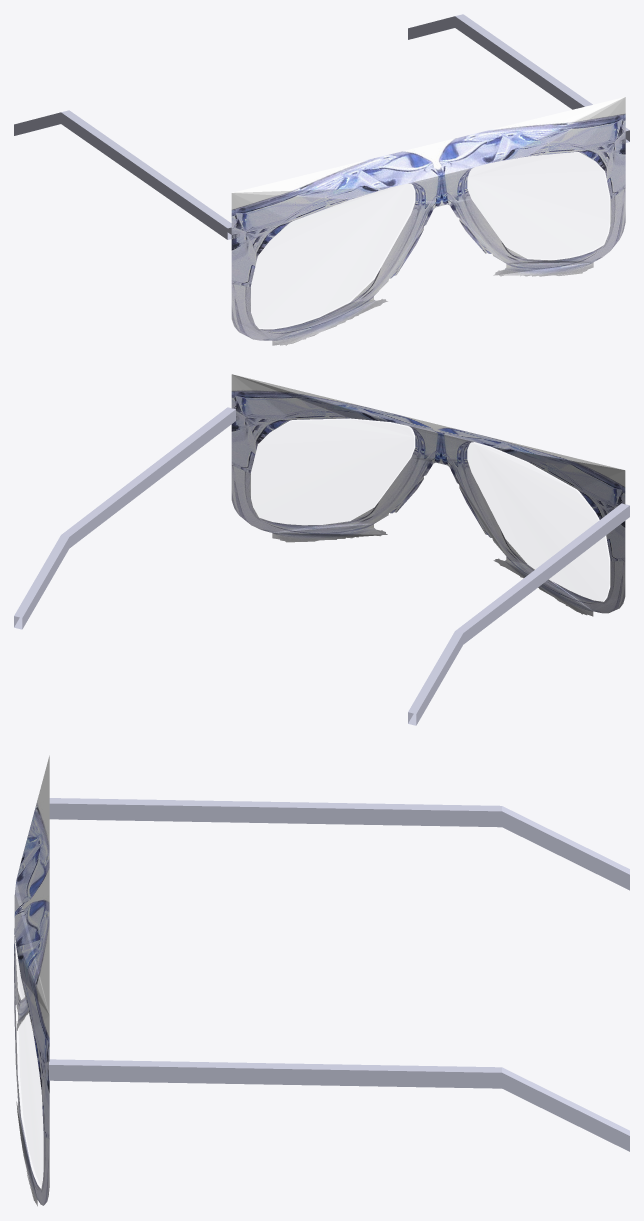
The model's file is smilen-elite-53_aruba.glb.
3 renders of one model, top to bottom at view 1: azimuth 30°, elevation 25°; view 2: azimuth 150°, elevation 25°; view 3: azimuth 270°, elevation 25°, orthographic. The views are drawn at different scales.
Parts seen in each view (by area): view 1: frame_front, temple_viewer_left, temple_viewer_right; view 2: frame_front, temple_viewer_left, temple_viewer_right; view 3: temple_viewer_right, temple_viewer_left, frame_front.
Boxes of the visible parts, x1,y1,x2,y2 form: frame_front: (231,97,625,345); temple_viewer_left: (14,110,232,239); temple_viewer_right: (408,14,629,142); frame_front: (231,374,625,616); temple_viewer_left: (408,503,629,725); temple_viewer_right: (14,407,235,629); temple_viewer_right: (49,1059,629,1151); temple_viewer_left: (49,798,629,890); frame_front: (14,755,49,1206).
Size of the model in its own units: 0.1446 by 0.0551 by 0.141.
Materials: 3 (2 with a texture image).
